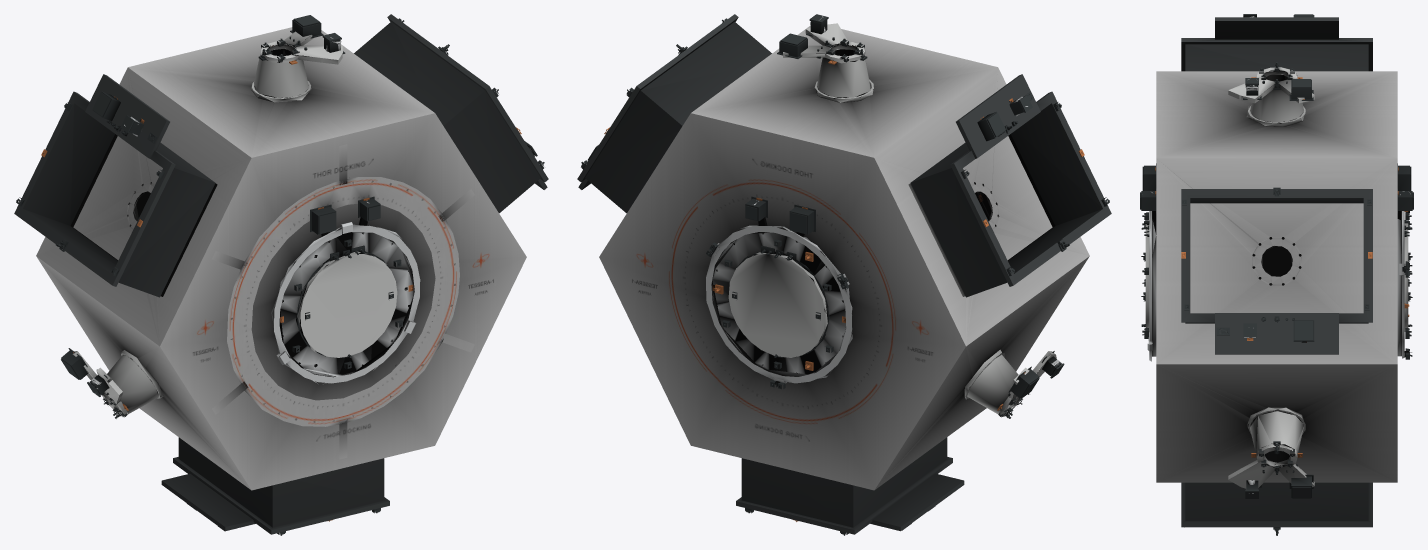
File: tessera.glb
The picture shows the model from 3 angles, left to right: view 1: azimuth 30°, elevation 25°; view 2: azimuth 150°, elevation 25°; view 3: azimuth 270°, elevation 25°; orthographic projection. The views are drawn at different scales.
Visible parts, largest first — view 1: TES1 Tessera Core.017, TES1 Tessera Core.018, TES1 Tessera Core.016, TES1 Tessera Core.019, TES1 Tessera Core.020, TES1 Tessera Core.022, TES1 Tessera Core.015, TES1 Tessera Core.003, TES1 Tessera Core.005; view 2: TES1 Tessera Core.017, TES1 Tessera Core.018, TES1 Tessera Core.019, TES1 Tessera Core.020, TES1 Tessera Core.022, TES1 Tessera Core.015, TES1 Tessera Core.005, TES1 Tessera Core.003; view 3: TES1 Tessera Core.017, TES1 Tessera Core.018, TES1 Tessera Core.022, TES1 Tessera Core.019, TES1 Tessera Core.015, TES1 Tessera Core.003, TES1 Tessera Core.005, TES1 Tessera Core.020, TES1 Tessera Core.025, TES1 Tessera Core.012, TES1 Tessera Core.001.
Boxes of the visible parts, x1,y1,x2,y2 form: TES1 Tessera Core.017: [36, 27, 526, 490]; TES1 Tessera Core.018: [14, 14, 548, 534]; TES1 Tessera Core.016: [212, 144, 474, 459]; TES1 Tessera Core.019: [271, 222, 420, 384]; TES1 Tessera Core.020: [70, 91, 397, 392]; TES1 Tessera Core.022: [72, 31, 342, 417]; TES1 Tessera Core.015: [61, 19, 380, 382]; TES1 Tessera Core.003: [61, 15, 537, 531]; TES1 Tessera Core.005: [16, 18, 544, 535]; TES1 Tessera Core.017: [599, 25, 1089, 490]; TES1 Tessera Core.018: [577, 14, 1111, 534]; TES1 Tessera Core.019: [706, 225, 852, 384]; TES1 Tessera Core.020: [728, 93, 1055, 387]; TES1 Tessera Core.022: [783, 23, 1056, 416]; TES1 Tessera Core.015: [588, 33, 1054, 398]; TES1 Tessera Core.005: [581, 18, 1109, 535]; TES1 Tessera Core.003: [587, 14, 1064, 530]; TES1 Tessera Core.017: [1156, 71, 1397, 482]; TES1 Tessera Core.018: [1181, 17, 1372, 527]; TES1 Tessera Core.022: [1228, 67, 1314, 488]; TES1 Tessera Core.019: [1147, 211, 1405, 361]; TES1 Tessera Core.015: [1141, 15, 1412, 497]; TES1 Tessera Core.003: [1140, 14, 1413, 498]; TES1 Tessera Core.005: [1141, 64, 1412, 472]; TES1 Tessera Core.020: [1145, 117, 1408, 420]; TES1 Tessera Core.025: [1252, 237, 1301, 285]; TES1 Tessera Core.012: [1141, 62, 1412, 535]; TES1 Tessera Core.001: [1216, 16, 1258, 489].
Bounding box in the file's own units: 1.27 × 1.21 × 0.6627.
Materials: 26 (2 with a texture image).
